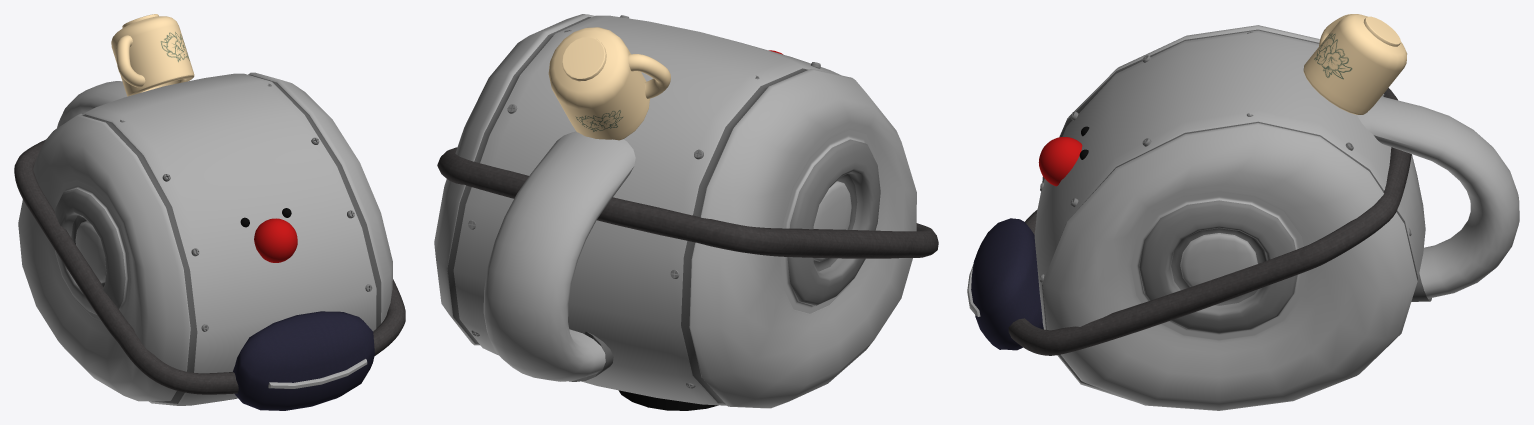
File: kopi dark blue.fbx
The picture shows the model from 3 angles, left to right: view 1: azimuth 30°, elevation 25°; view 2: azimuth 150°, elevation 25°; view 3: azimuth 270°, elevation 25°; orthographic projection. The views are drawn at different scales.
Visible parts, largest first — view 1: kopi_bodd; view 2: kopi_bodd; view 3: kopi_bodd.
Boxes of the visible parts, x1,y1,x2,y2 form: kopi_bodd: [14, 14, 405, 410]; kopi_bodd: [434, 14, 938, 410]; kopi_bodd: [967, 14, 1519, 410].
Size of the model in its own units: 70.81 by 76.35 by 105.
Materials: 11 (5 with a texture image).
